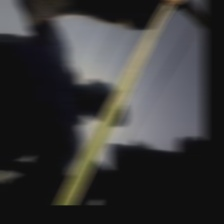Leaf_Blast: (80, 24, 152, 167)
